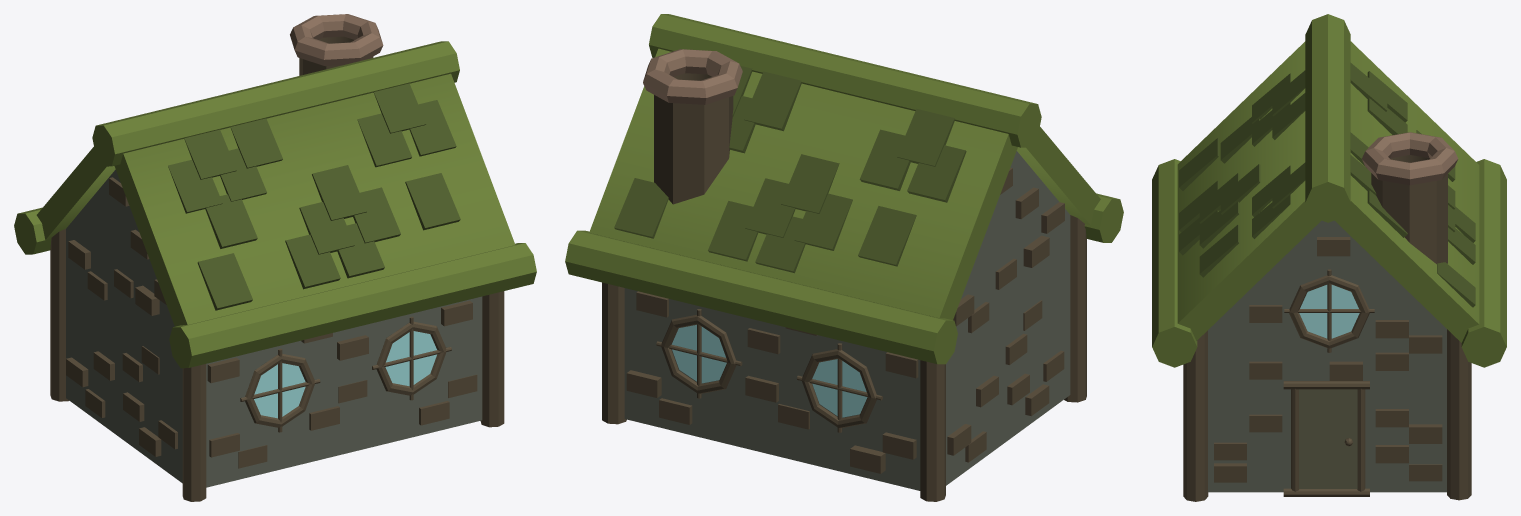
The model's file is huis kleur.fbx.
3 views of the same model, side by side, from view 1: azimuth 30°, elevation 25°; view 2: azimuth 150°, elevation 25°; view 3: azimuth 270°, elevation 25° (orthographic). The views are drawn at different scales.
Parts seen in each view (by area): view 1: pCube2, pCube1, pCube56, pCylinder27, pCylinder25, pTorus10, pCylinder29, pCylinder8, pCylinder30, polySurface27, polySurface26, pCylinder34 (+13 smaller); view 2: pCube1, pCube2, pCylinder26, pCylinder25, pCylinder24, pTorus10, pCylinder30, pCylinder28, pCylinder29, polySurface25, polySurface24, polySurface18 (+25 smaller); view 3: pCube1, pCube2, pCube56, pCylinder25, pCylinder26, pCube3, pCylinder27, pCylinder24, pCylinder28, pCylinder8, pTorus10, polySurface21 (+25 smaller).
Part boxes in pixels (box(x1,y1,x2,y2)): pCube2: box(36, 73, 515, 326); pCube1: box(66, 169, 482, 487); pCube56: box(168, 83, 460, 310); pCylinder27: box(169, 243, 536, 368); pCylinder25: box(92, 41, 459, 166); pTorus10: box(290, 14, 383, 66); pCylinder29: box(182, 364, 206, 501); pCylinder8: box(480, 291, 504, 427); pCylinder30: box(50, 229, 69, 401); polySurface27: box(240, 348, 320, 432); polySurface26: box(372, 316, 451, 400); pCylinder34: box(385, 331, 436, 386); pCube1: box(624, 151, 1070, 490); pCube2: box(589, 48, 1100, 320); pCylinder26: box(565, 230, 957, 364); pCylinder25: box(649, 14, 1041, 147); pCylinder24: box(654, 73, 733, 204); pTorus10: box(643, 49, 742, 104); pCylinder30: box(920, 360, 945, 501); pCylinder28: box(602, 282, 626, 424); pCylinder29: box(1064, 215, 1086, 402); polySurface25: box(796, 343, 882, 432); polySurface24: box(656, 309, 742, 398); polySurface18: box(858, 206, 916, 266); pCube1: box(1208, 220, 1446, 492); pCube2: box(1177, 41, 1479, 342); pCube56: box(1179, 70, 1305, 277); pCylinder25: box(1305, 14, 1350, 222); pCylinder26: box(1461, 159, 1506, 367); pCube3: box(1299, 389, 1357, 488); pCylinder27: box(1152, 159, 1197, 367); pCylinder24: box(1371, 155, 1447, 264); pCylinder28: box(1447, 329, 1471, 500); pCylinder8: box(1183, 330, 1208, 501); pTorus10: box(1362, 132, 1458, 185); polySurface21: box(1284, 269, 1374, 352).
Bounding box in the file's own units: 2.95 × 2.69 × 2.64.
